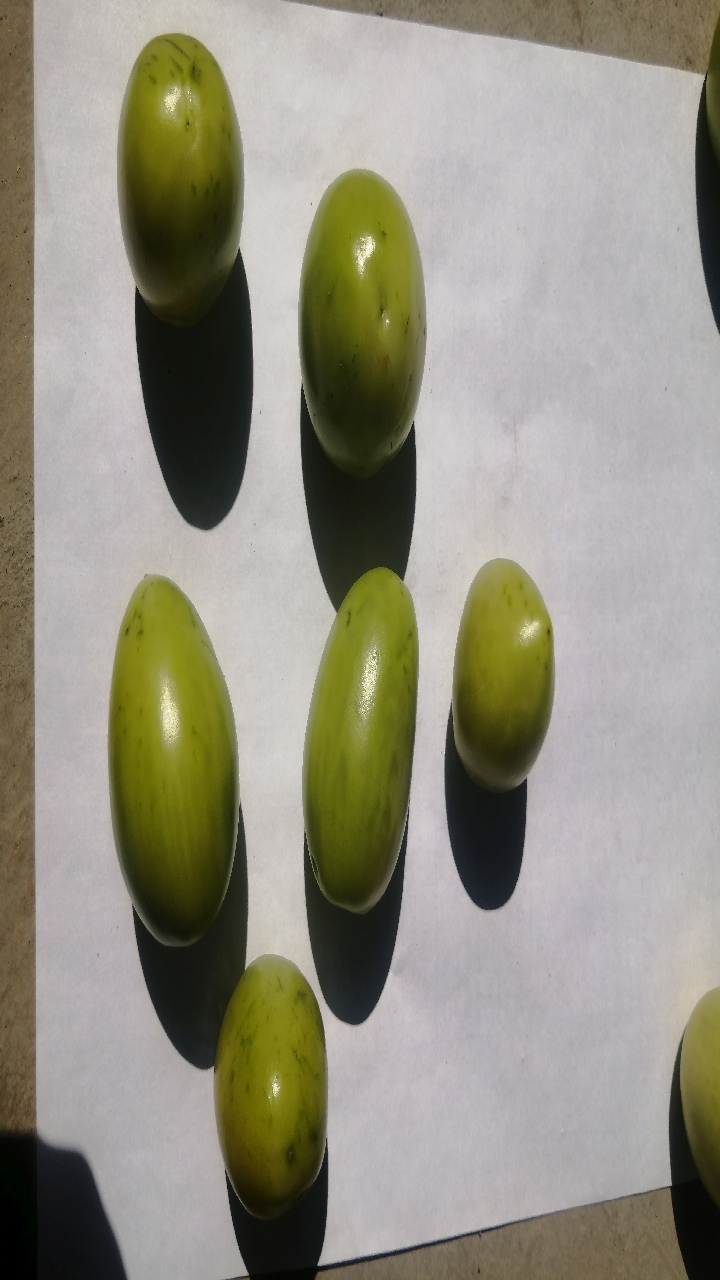tomateVerde: (78, 560, 263, 937), (78, 8, 304, 314), (292, 526, 441, 939), (291, 149, 449, 488), (420, 531, 606, 814), (204, 943, 351, 1231)
